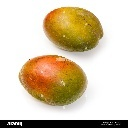mango: (19, 55, 87, 106)
